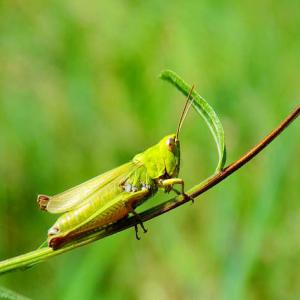locust: (35, 89, 201, 260)
